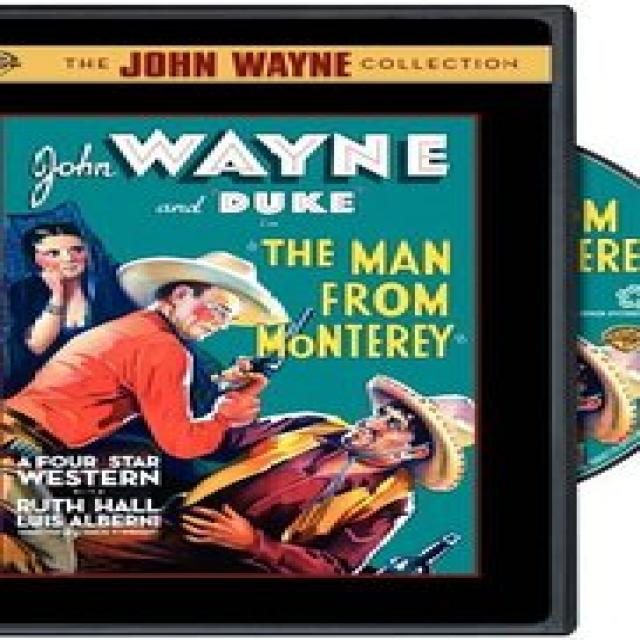movie-judul: (260, 233, 460, 366)
picture: (6, 212, 473, 570)
